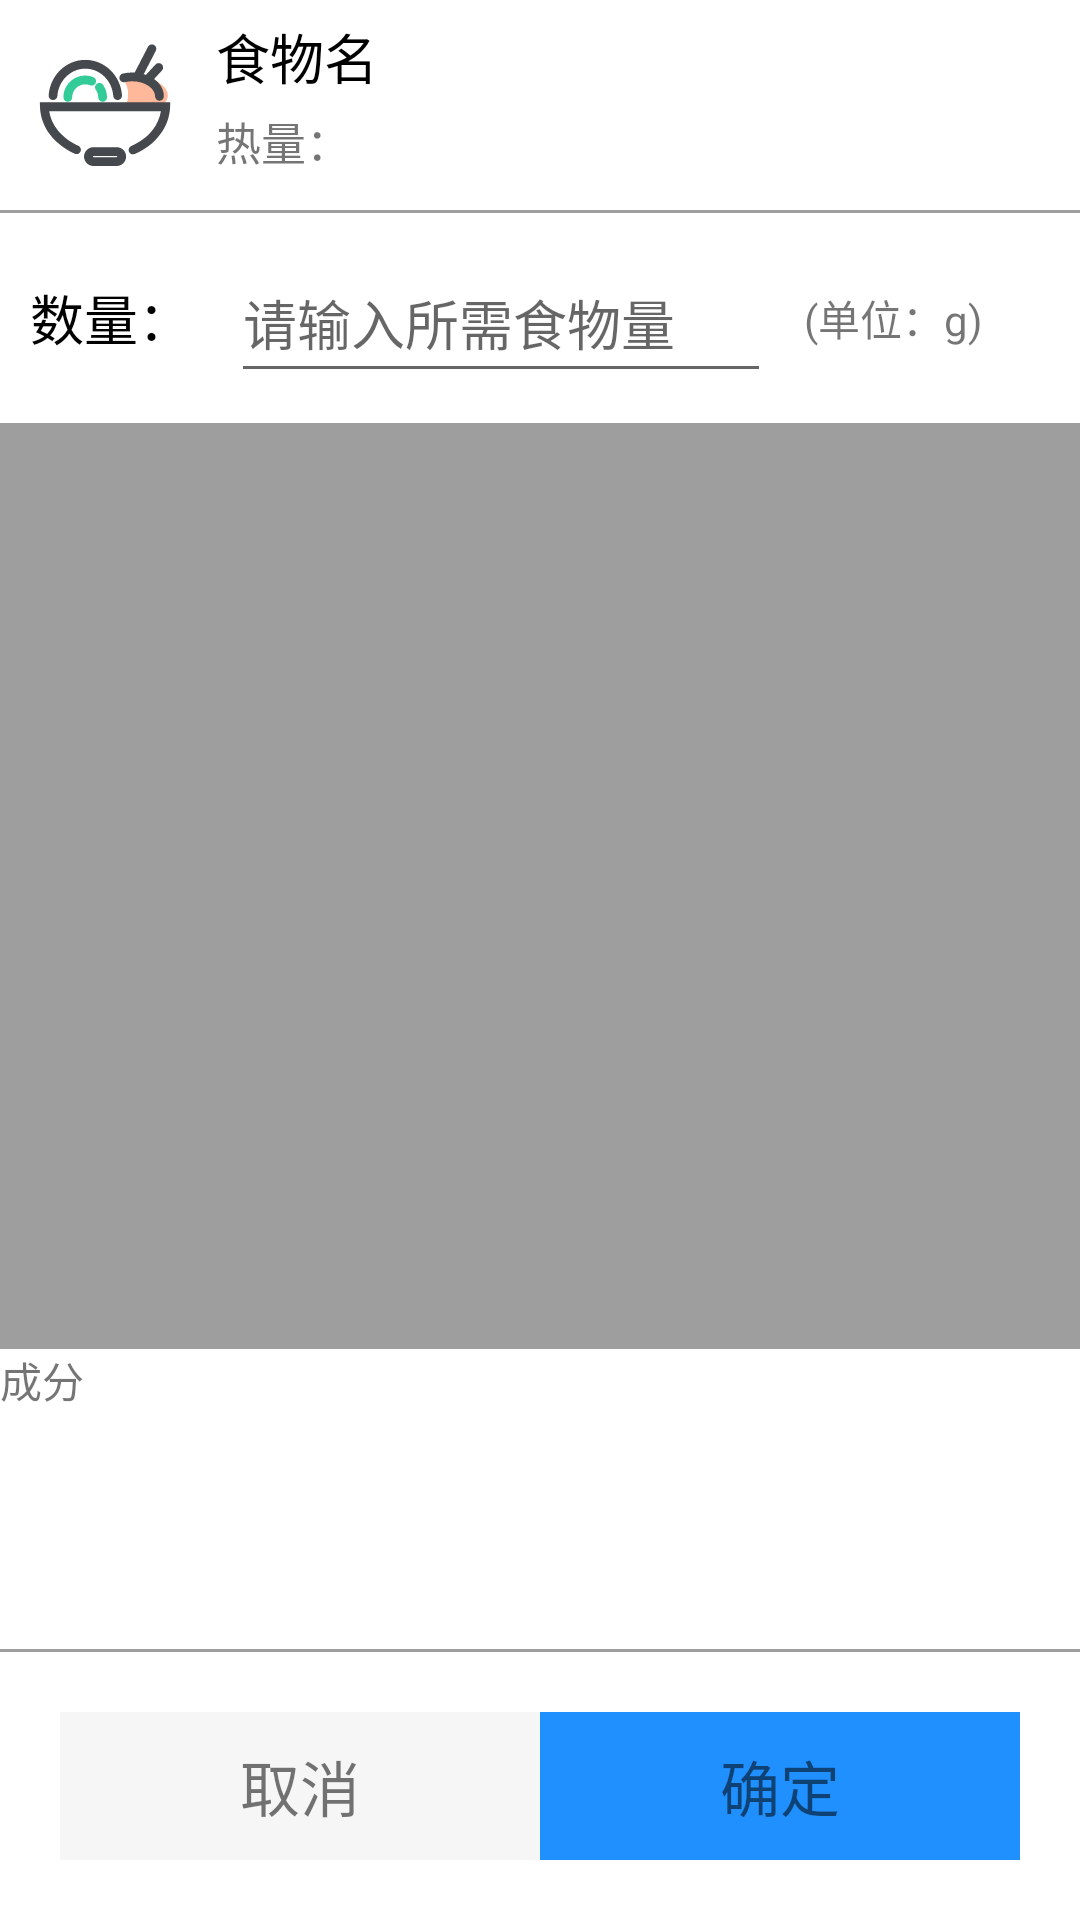

Screen size 1080x1920. Icon name, then its center in pixels as (x,y):
food: (105,105)
